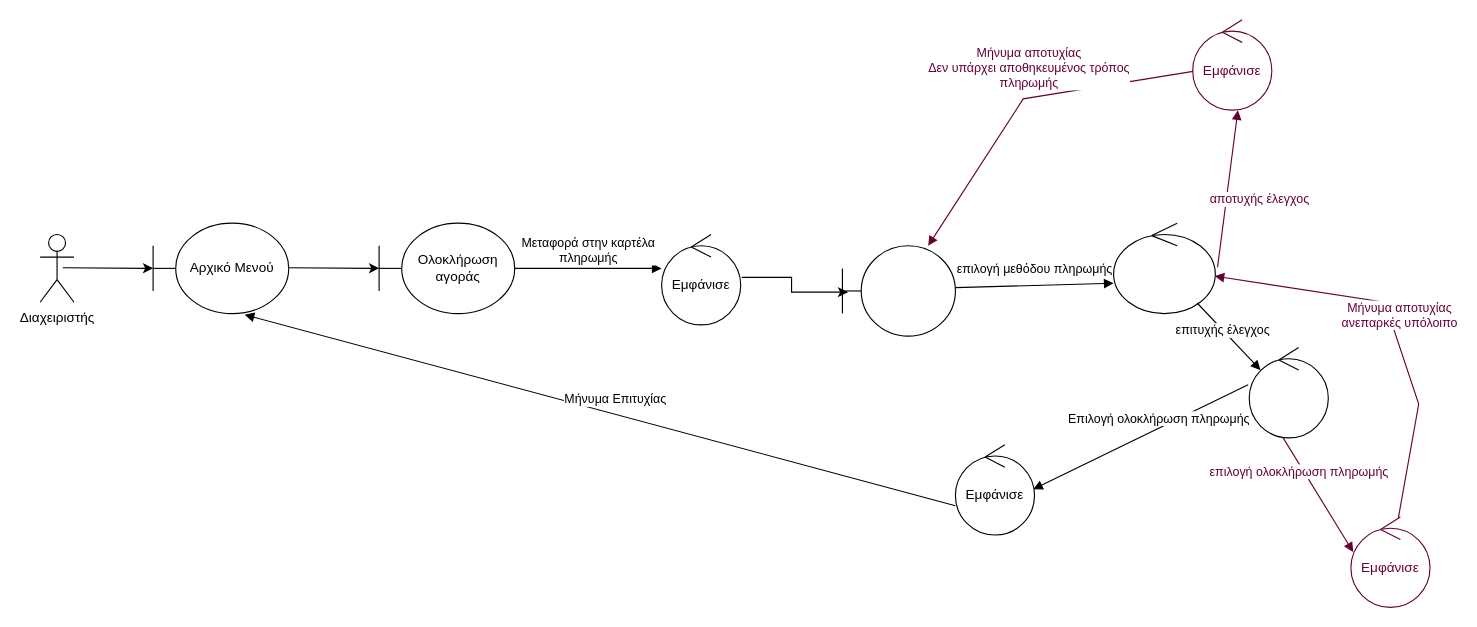
Some shapes in this 1477 by 627 pixel diagram are drawn without their labels. The centre of each missing label's shape, as x and y in pixels:
Αποθηκευμένος τρόπος πληρωμής;: the point at 1163,268
Οθόνη Πληρωμής: the point at 898,290
Ολοκλήρωση πληρωμής;: the point at 1288,392
